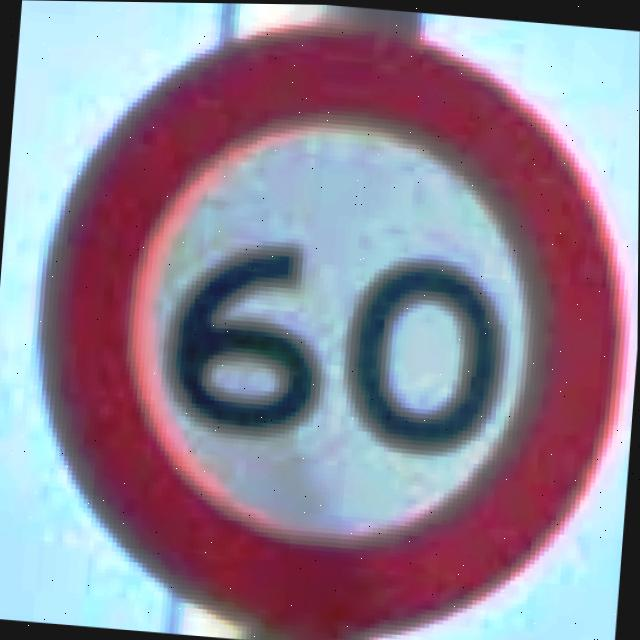max60: (16, 0, 640, 640)
